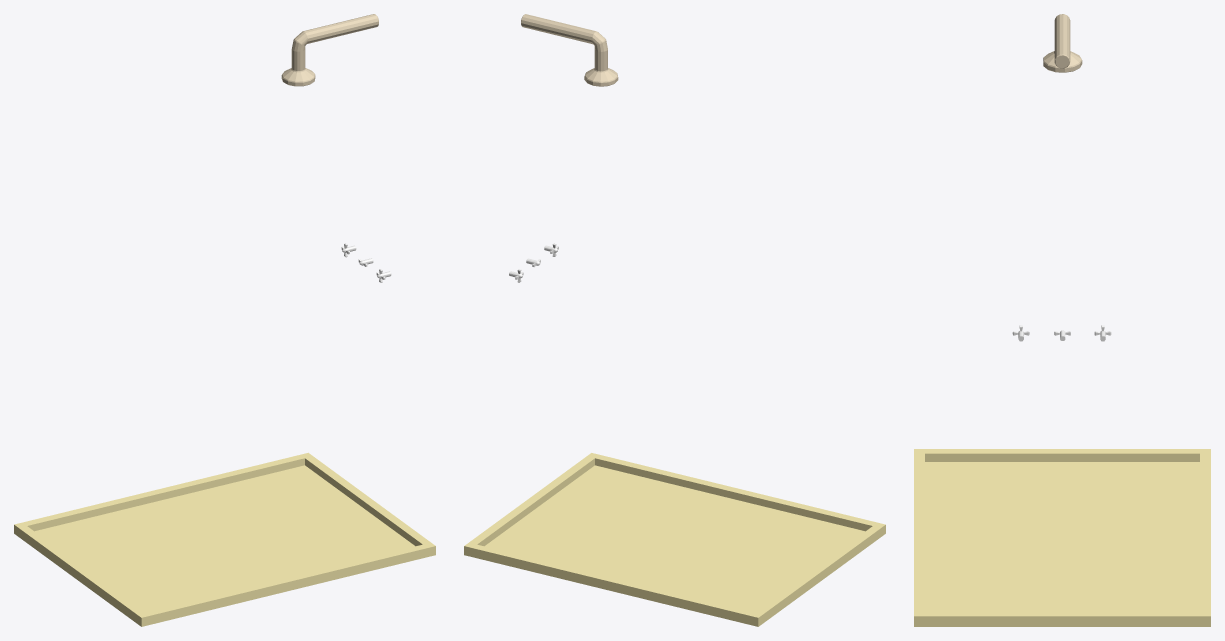
File: Bathroom - Shower.fbx
The picture shows the model from 3 angles, left to right: view 1: azimuth 30°, elevation 25°; view 2: azimuth 150°, elevation 25°; view 3: azimuth 270°, elevation 25°; orthographic projection. The views are drawn at different scales.
Parts seen in each view (by area): view 1: Cube.258, Cylinder.028; view 2: Cube.258, Cylinder.028; view 3: Cube.258, Cylinder.028.
Boxes of the visible parts, box(x1,y1,x2,y2) form: Cube.258: box(14, 452, 435, 626); Cylinder.028: box(281, 14, 378, 86); Cube.258: box(464, 453, 885, 626); Cylinder.028: box(521, 14, 618, 86); Cube.258: box(914, 449, 1210, 626); Cylinder.028: box(1043, 14, 1082, 72).
Size of the model in its own units: 405 by 640 by 300.
